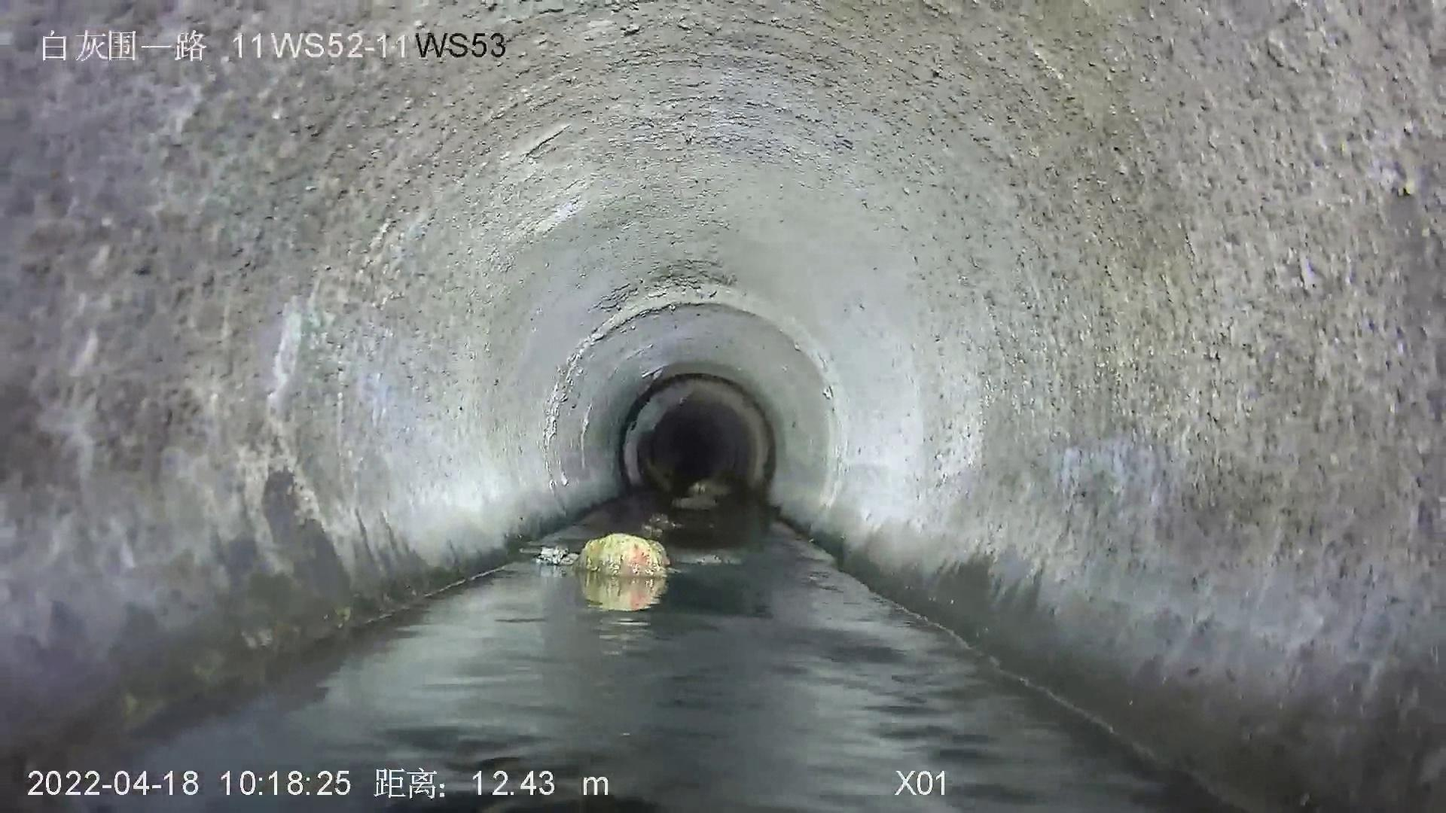ZAW: (535, 513, 741, 577)
